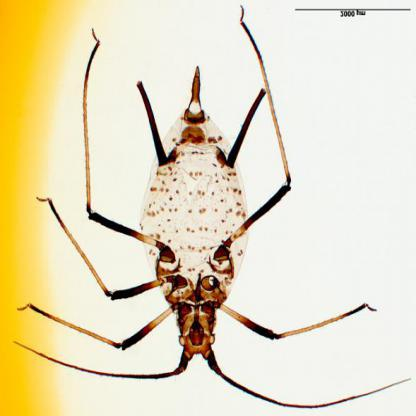uroleucon compositae: (85, 68, 291, 393)
